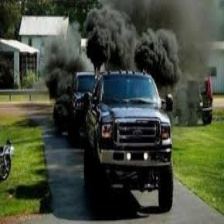smoke: (84, 10, 183, 81), (47, 53, 73, 104)
